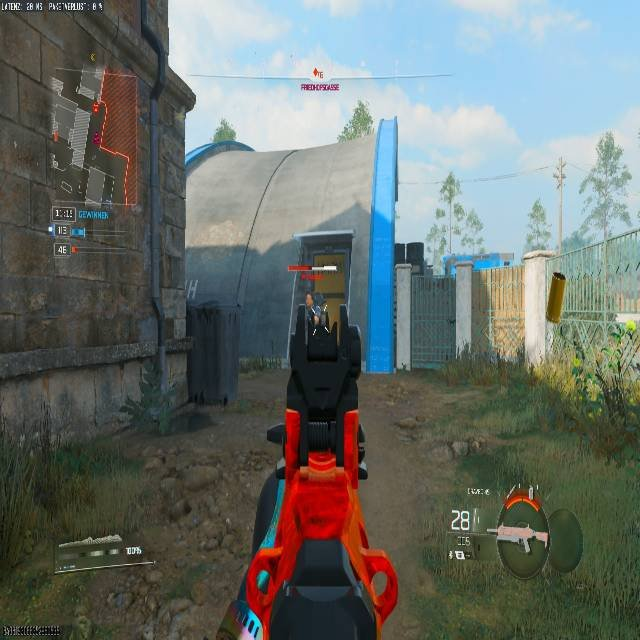player: (305, 289, 328, 333), (298, 279, 321, 317)
